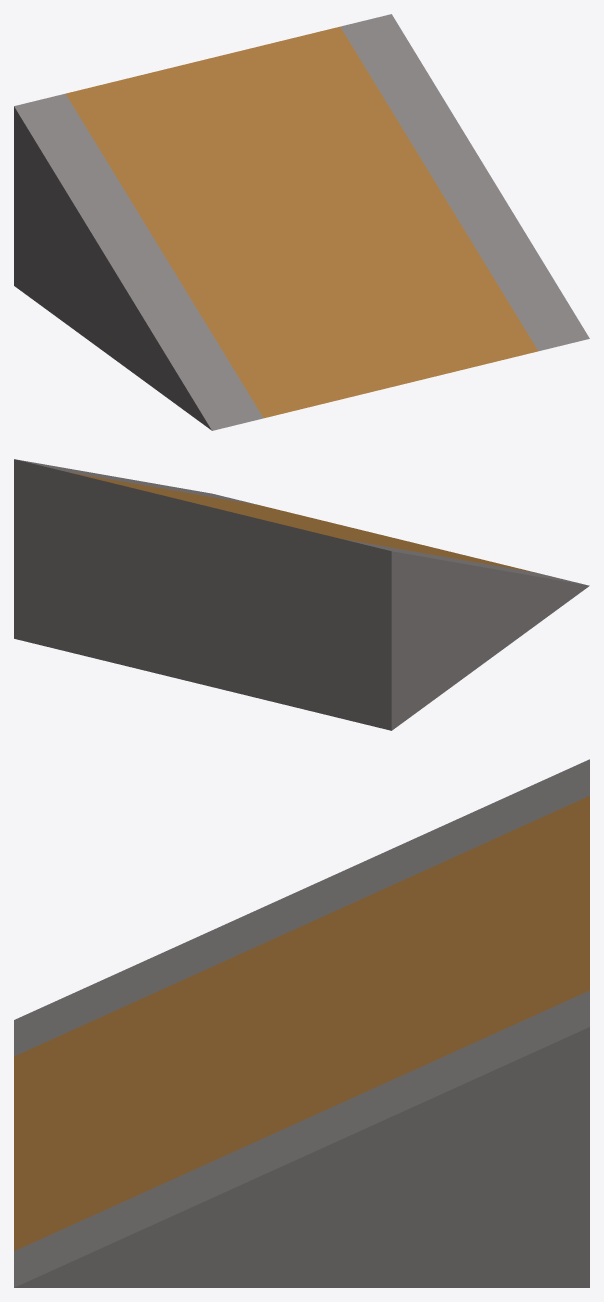
The model's file is slope-japan-small.glb.
The picture shows the model from 3 angles, top to bottom: view 1: azimuth 30°, elevation 25°; view 2: azimuth 150°, elevation 25°; view 3: azimuth 270°, elevation 25°; orthographic projection. The views are drawn at different scales.
Visible parts, largest first — view 1: slope-japan_small; view 2: slope-japan_small; view 3: slope-japan_small.
Boxes of the visible parts, x1,y1,x2,y2 form: slope-japan_small: [14, 14, 589, 430]; slope-japan_small: [14, 459, 589, 730]; slope-japan_small: [14, 759, 589, 1287].
Size of the model in its own units: 11 by 5 by 10.
Materials: 1 (1 with a texture image).
